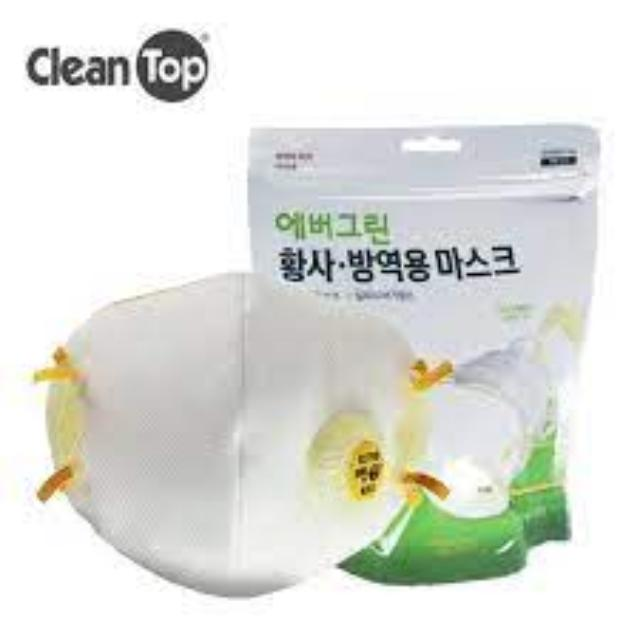masks: (26, 256, 446, 606)
